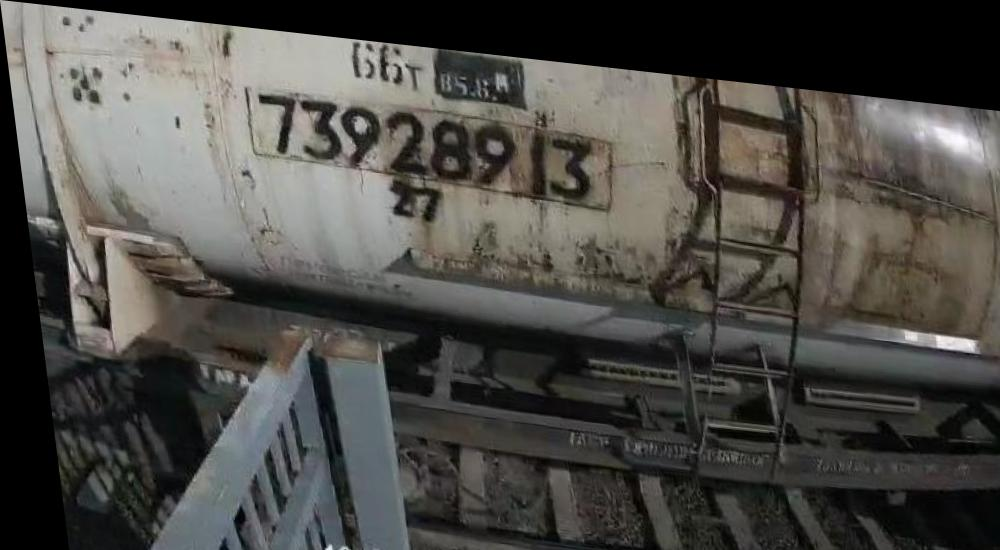Wagon-number: (249, 80, 602, 194)
